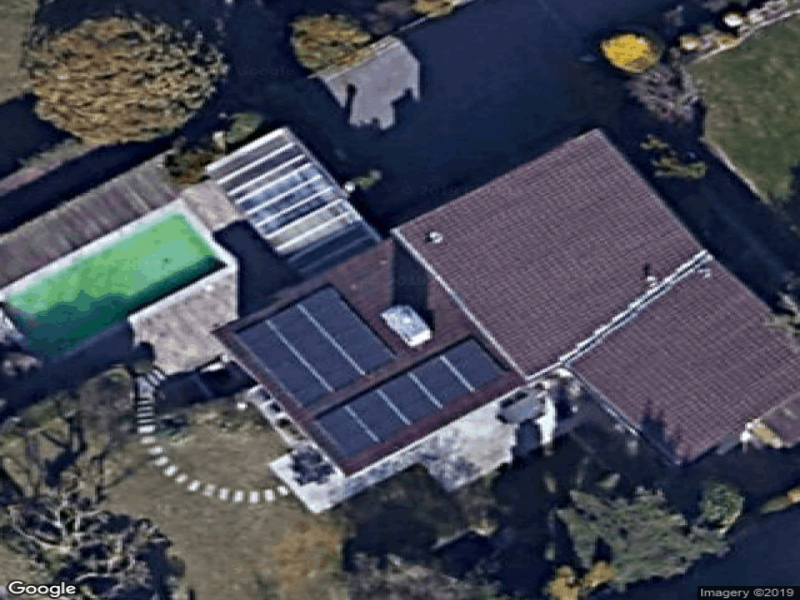pv: (314, 338, 509, 461), (235, 287, 396, 411)
